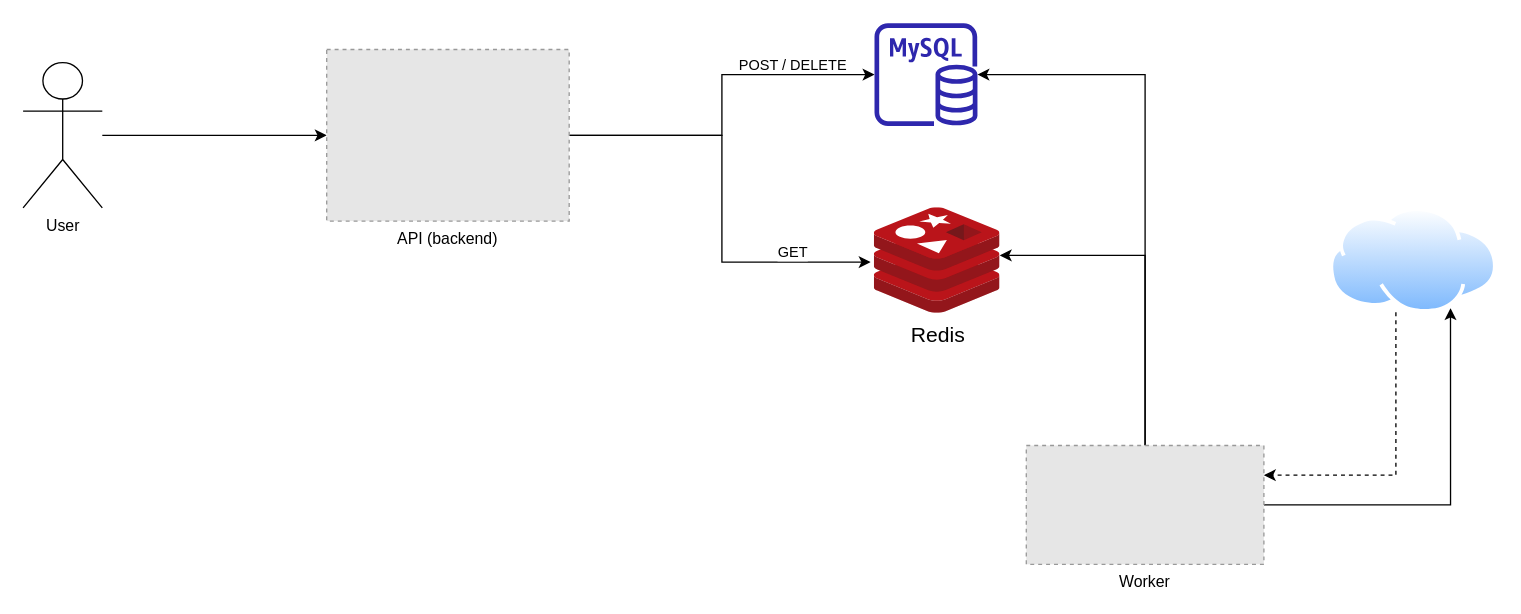
Image size: 1521x614. Some labels were removed from this diagram. Grey dashed boxes stand in for pictures. The centre of each missing label's shape, as x and y in pixels:
"MySQL" goes at (925,73).
"Public API Currency" goes at (1413,260).
